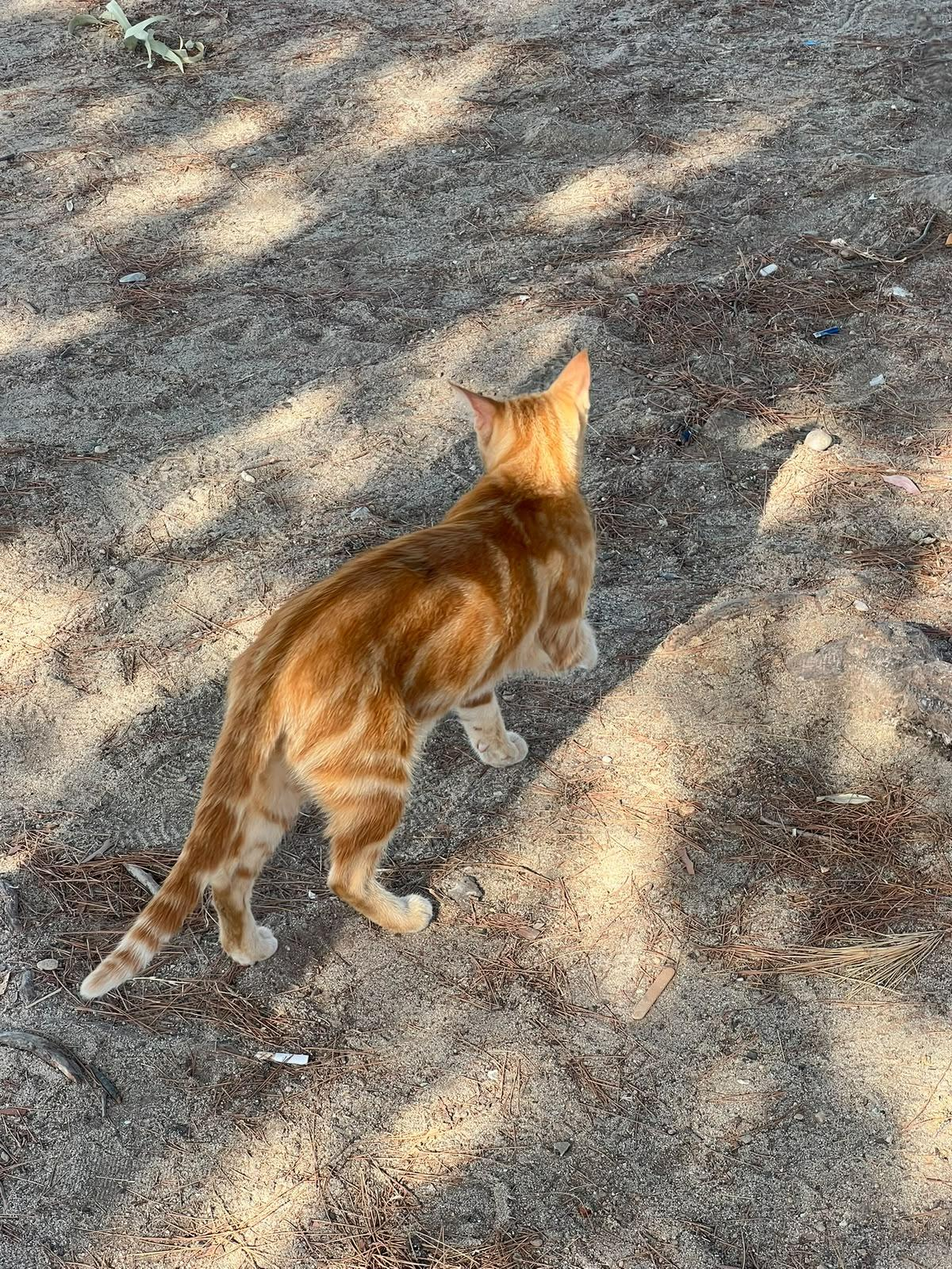macka: (76, 350, 606, 1005)
